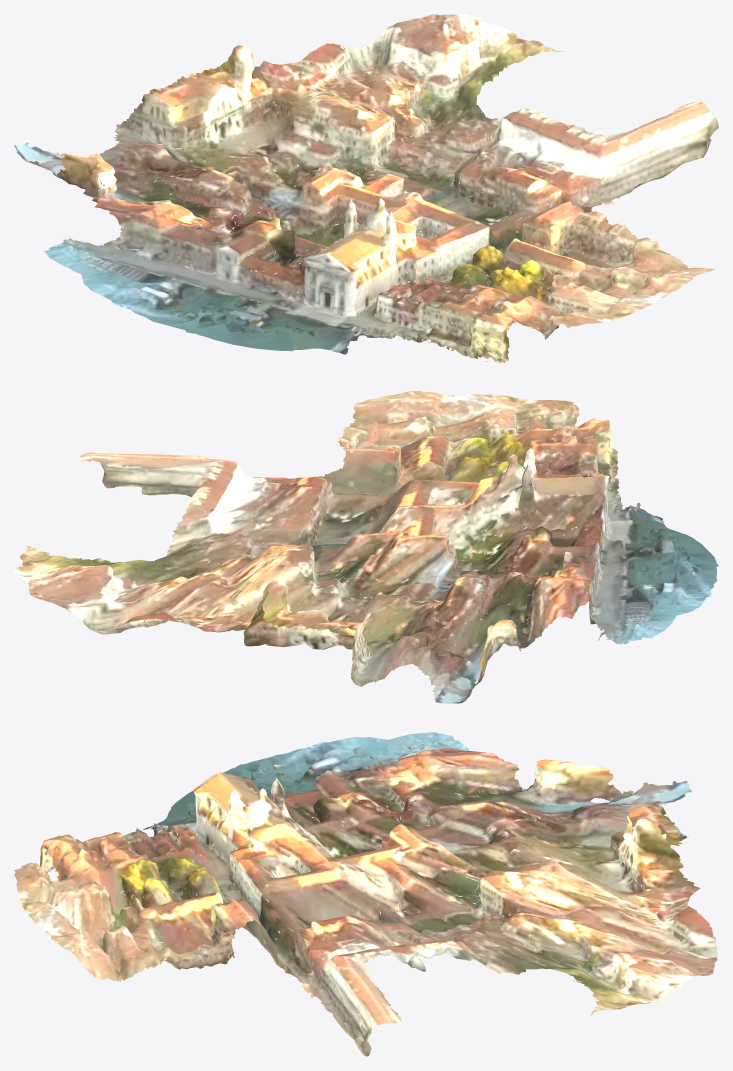
The model's file is chiesa-venezia.glb.
3 renders of one model, top to bottom at view 1: azimuth 30°, elevation 25°; view 2: azimuth 150°, elevation 25°; view 3: azimuth 270°, elevation 25°, orthographic. The views are drawn at different scales.
Visible parts, largest first — view 1: Object_2, Object_3; view 2: Object_2, Object_3; view 3: Object_2, Object_3.
Part boxes in pixels (x1,y1,x2,y2): Object_2: (52,14,718,358); Object_3: (14,44,711,362); Object_2: (14,391,612,689); Object_3: (36,401,718,703); Object_2: (14,747,717,1054); Object_3: (40,732,716,1056).
Bounding box in the file's own units: 16.14 × 2.21 × 15.69.
Materials: 1 (1 with a texture image).
